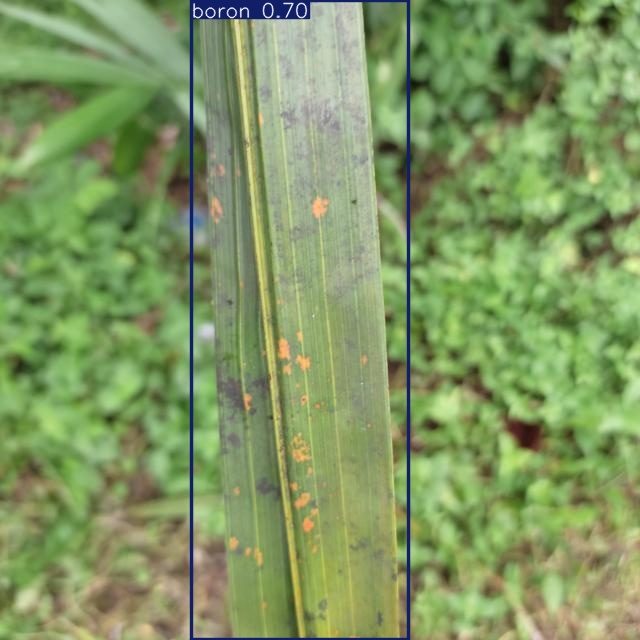nitrogen: (191, 0, 408, 640)
